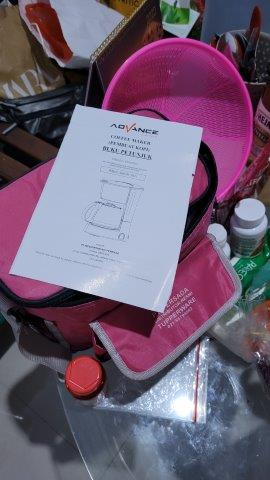kertas: (9, 105, 203, 313)
